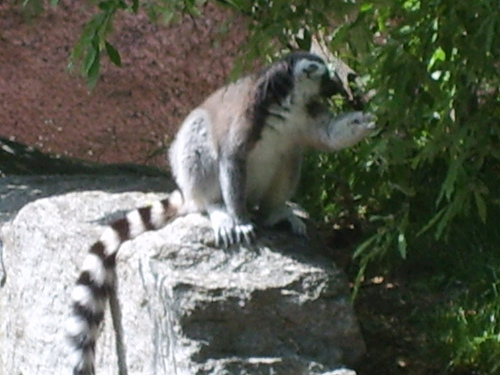cat: (71, 52, 374, 374)
